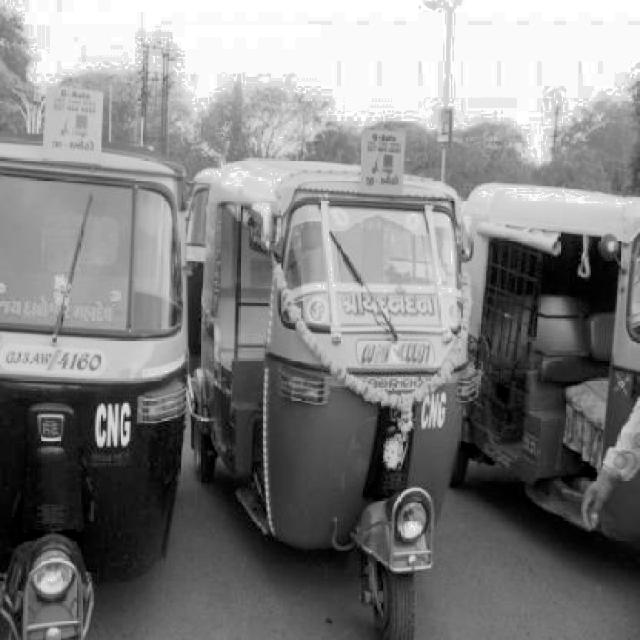Auto-Rickshaw: (192, 160, 465, 638), (0, 127, 194, 638), (456, 149, 640, 553)
